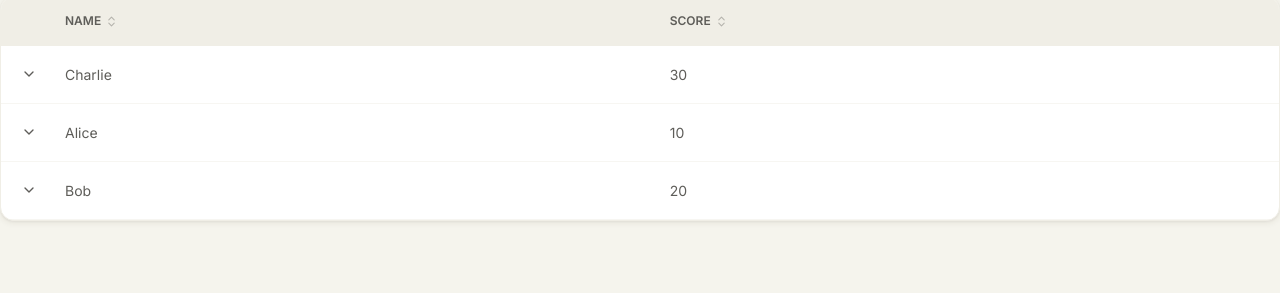
Scenario: DataTable v2 features › toggles an expanded detail row
The image size is (1280, 293).
expect the text "detail-Charlie" is not shown: met
Click the button titled "Expand" next to "Charlie" at (29, 74), box [17, 62, 41, 86]
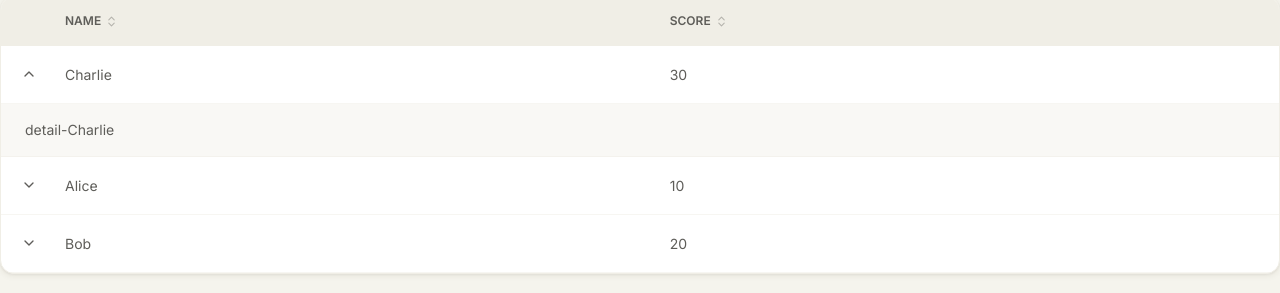
expect the text "detail-Charlie" is shown: met, box [25, 121, 114, 138]
